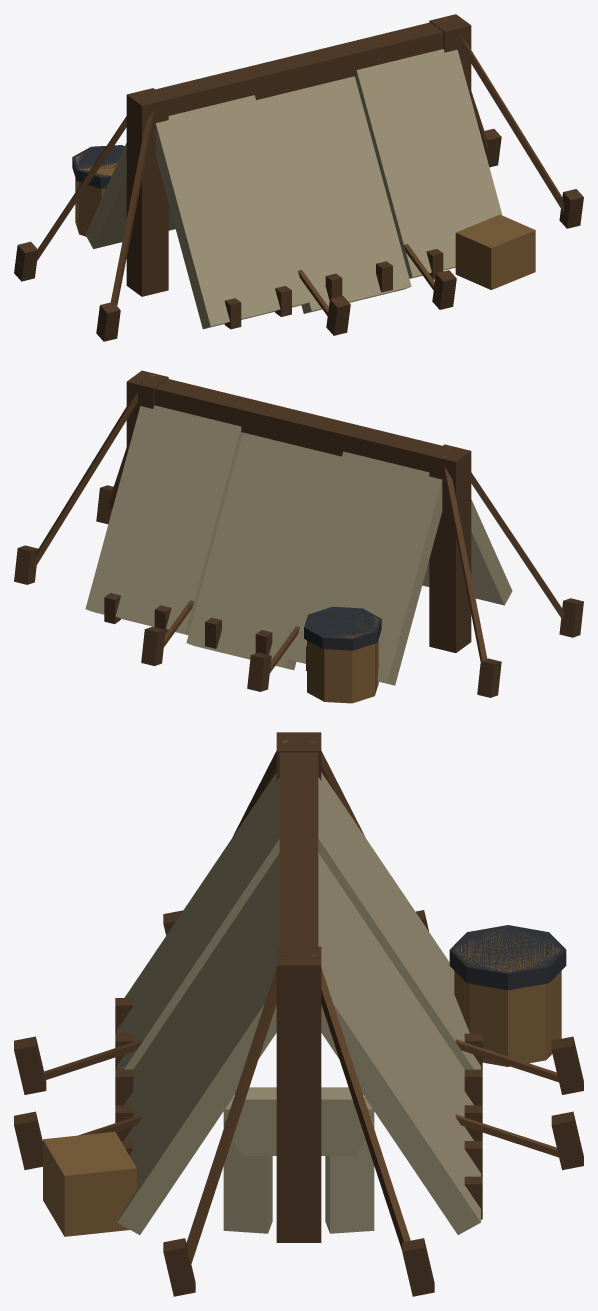
The model's file is tent_a.glb.
3 renders of one model, top to bottom at view 1: azimuth 30°, elevation 25°; view 2: azimuth 150°, elevation 25°; view 3: azimuth 270°, elevation 25°, orthographic. The views are drawn at different scales.
Parts seen in each view (by area): view 1: canvas, timber, timber_light, leather, iron_dark; view 2: canvas, timber, leather, timber_light, iron_dark; view 3: canvas, timber, timber_light, leather, iron_dark.
Boxes of the visible parts, x1,y1,x2,y2 form: canvas: (85, 49, 502, 329); timber: (14, 14, 583, 341); timber_light: (75, 147, 535, 289); leather: (34, 18, 563, 315); iron_dark: (72, 145, 124, 188); canvas: (85, 405, 512, 685); timber: (14, 370, 583, 697); leather: (34, 374, 564, 673); timber_light: (307, 614, 378, 703); iron_dark: (304, 606, 381, 650); canvas: (117, 772, 480, 1234); timber: (14, 732, 583, 1296); timber_light: (43, 927, 561, 1236); leather: (43, 739, 558, 1264); iron_dark: (449, 925, 566, 990).
Size of the model in its own units: 53.5 by 21.73 by 38.17.
